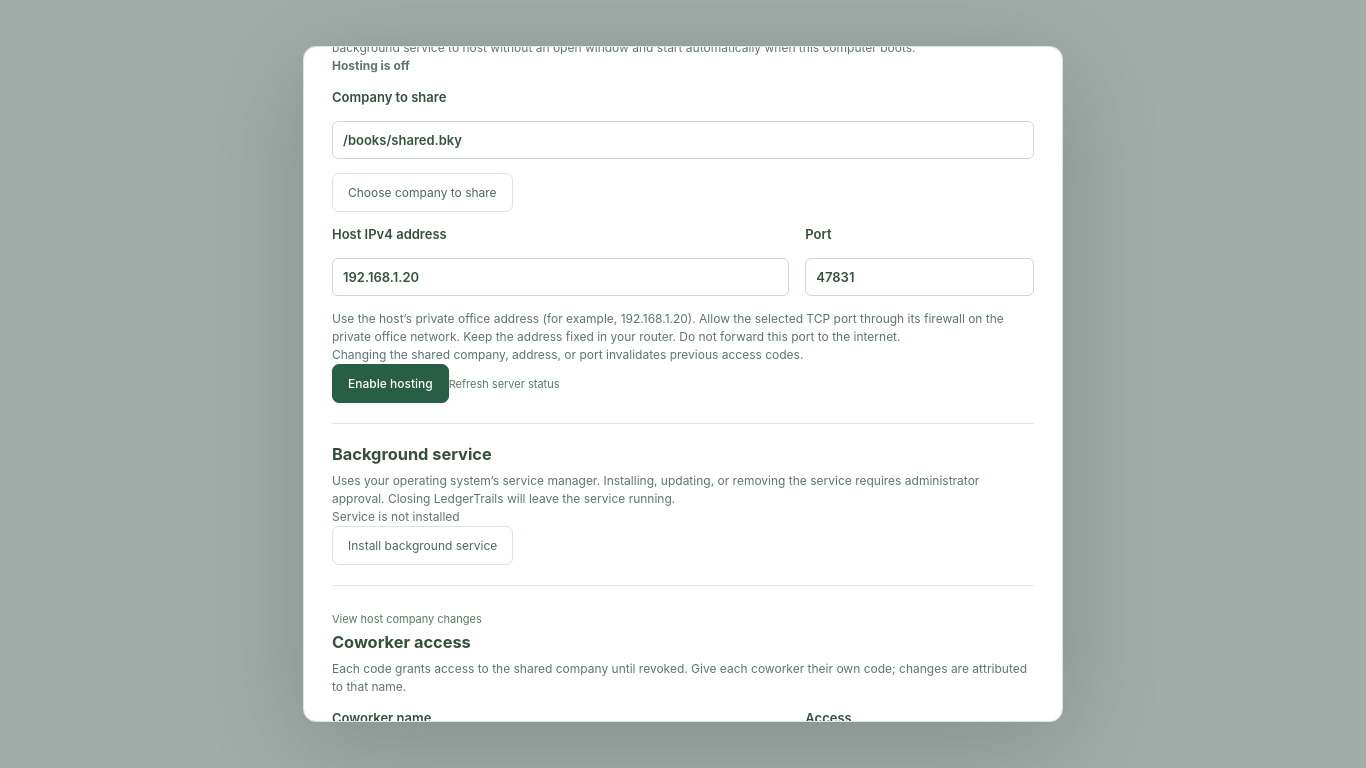
Test: host startup failures are shown without claiming hosting is on
(page scrolled)
Expected: the text "Hosting is off" is shown, 332,58 -> 410,74
Click the button "Enable hosting" at (390, 384), box 332,364 -> 449,404
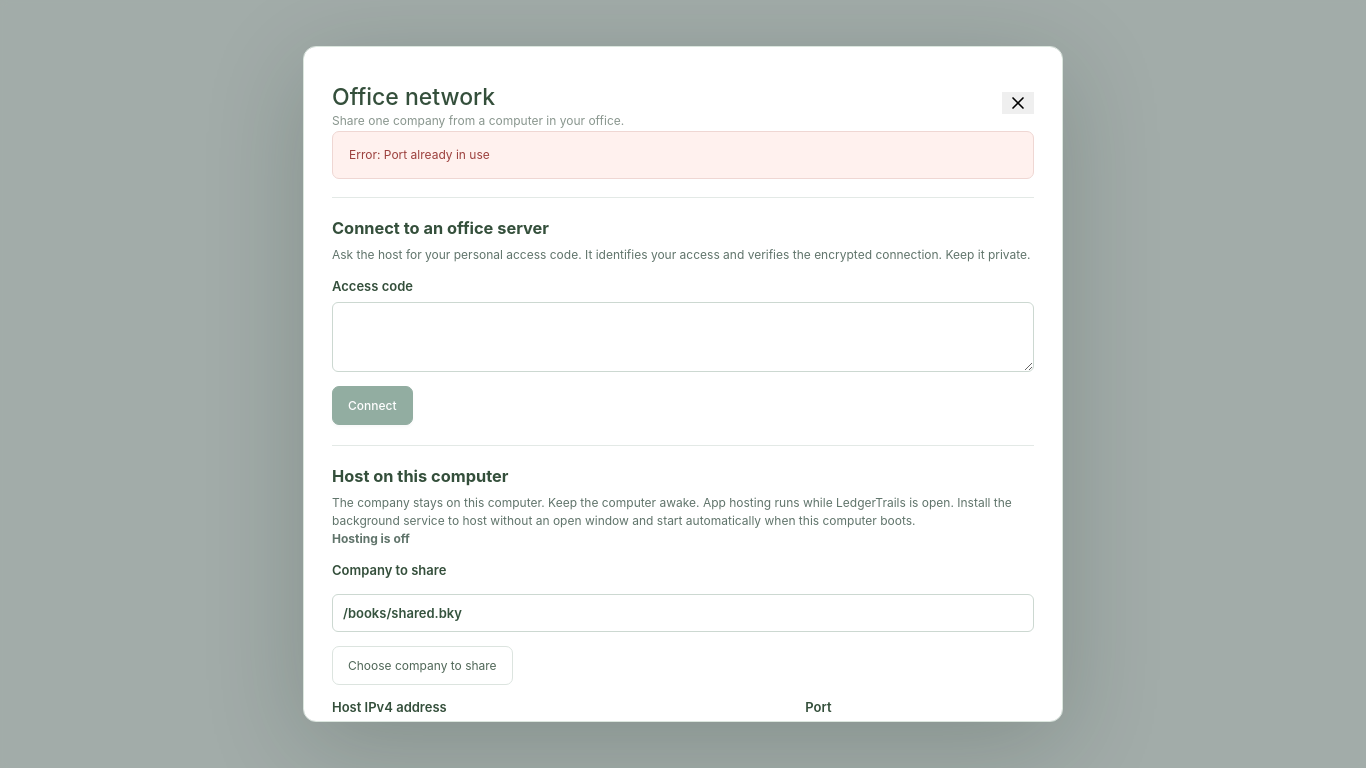
Expected: the message "Error: Port already in use" is shown, 332,132 -> 1034,179
